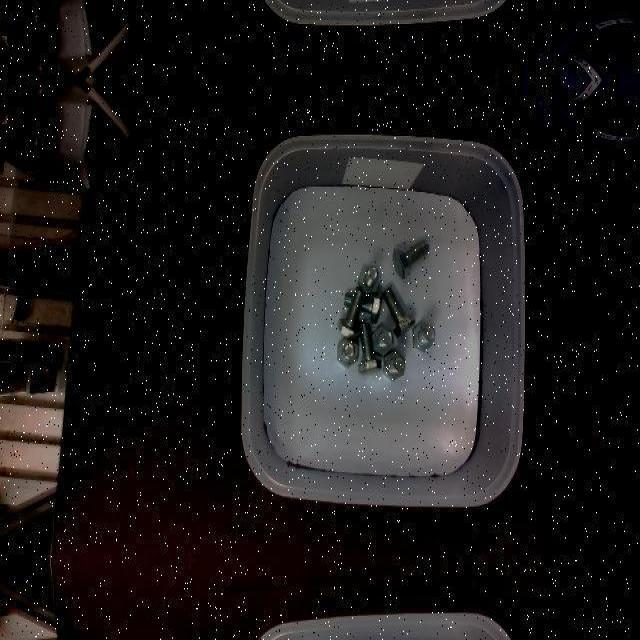screw: (383, 287, 414, 337), (393, 239, 430, 279), (336, 287, 364, 337), (357, 324, 381, 376), (413, 320, 435, 352), (382, 350, 404, 382), (336, 335, 358, 367), (359, 264, 382, 294), (372, 324, 393, 354)
